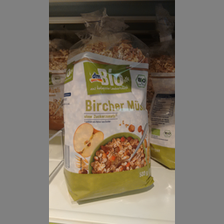cereal: (62, 33, 161, 203)
